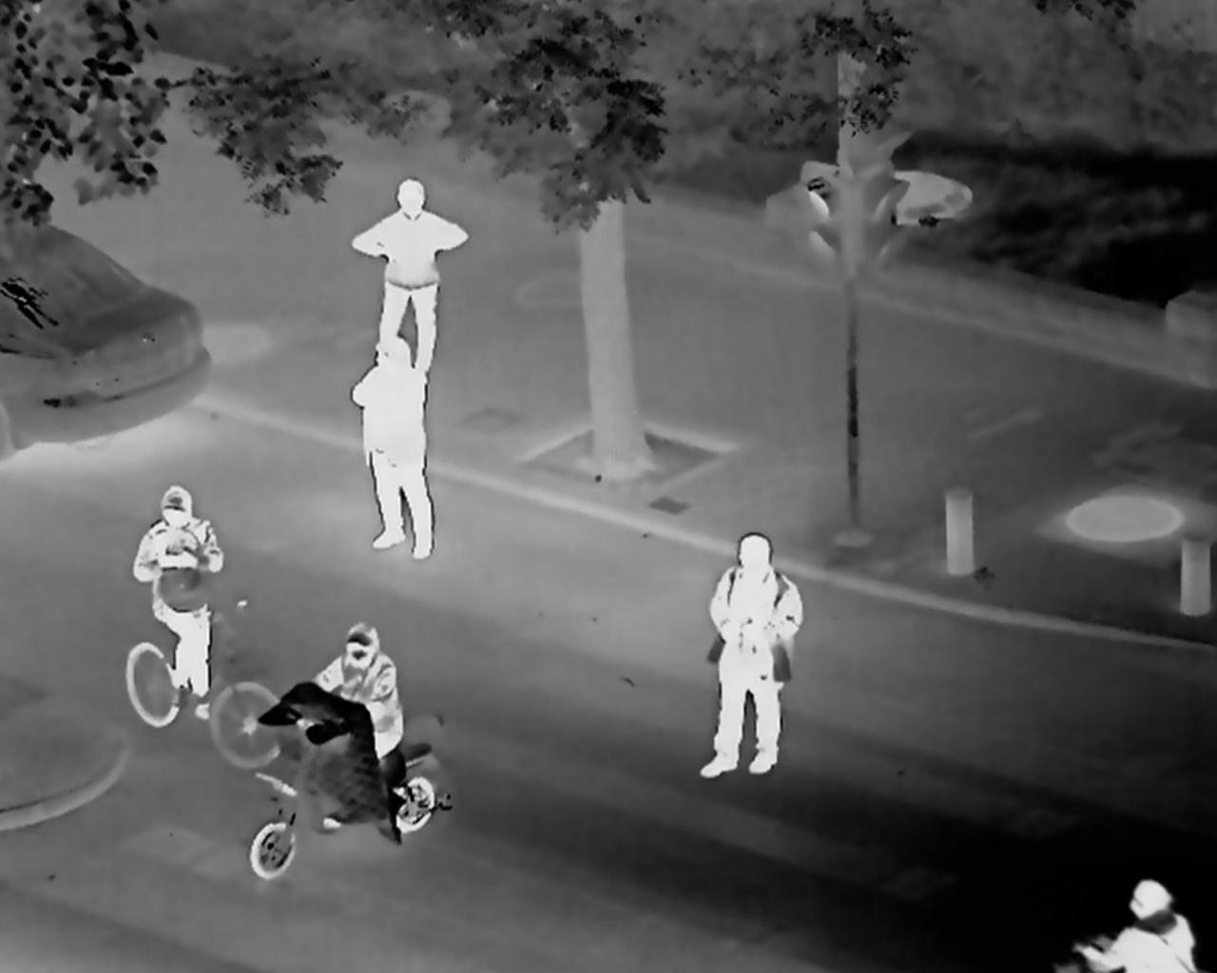person: (712, 527, 810, 800), (127, 460, 230, 710), (338, 339, 446, 561), (352, 173, 468, 338), (311, 620, 409, 762), (1104, 873, 1204, 973)
